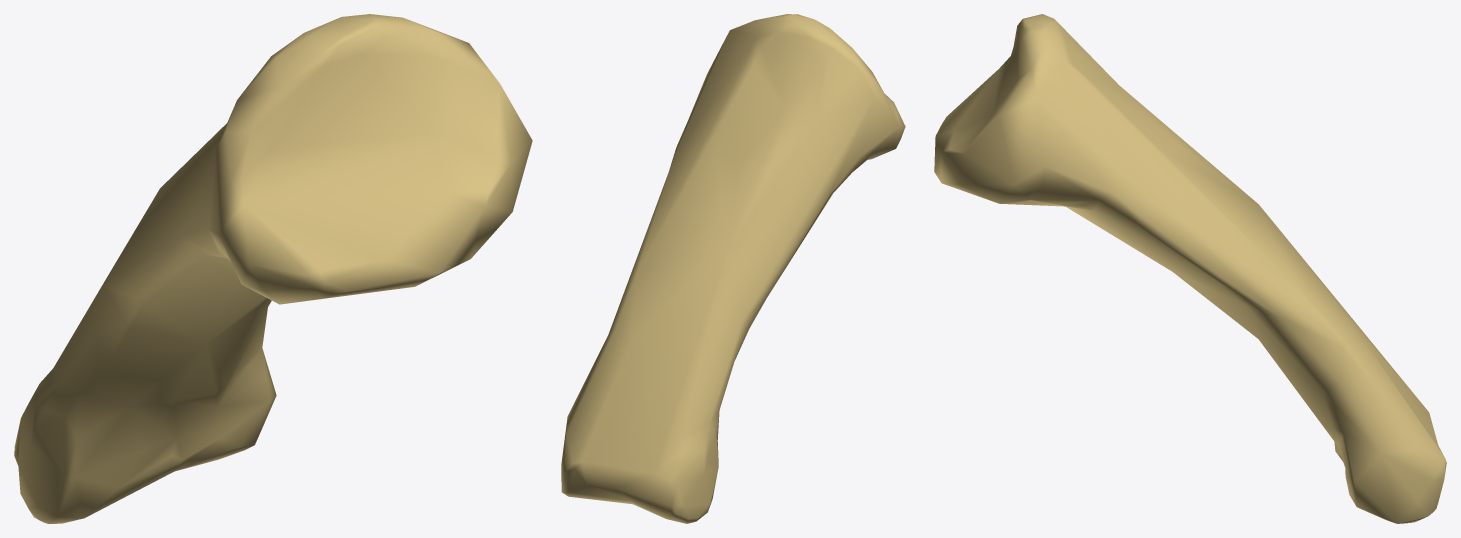
The picture shows the model from 3 angles, left to right: view 1: azimuth 30°, elevation 25°; view 2: azimuth 150°, elevation 25°; view 3: azimuth 270°, elevation 25°; orthographic projection. The views are drawn at different scales.
Visible parts, largest first — view 1: 左侧第四指中节指骨; view 2: 左侧第四指中节指骨; view 3: 左侧第四指中节指骨.
Boxes of the visible parts, <box> form: 左侧第四指中节指骨: <box>14,14,532,523</box>; 左侧第四指中节指骨: <box>561,14,905,523</box>; 左侧第四指中节指骨: <box>934,14,1446,523</box>.
Bounding box in the file's own units: 0.0185 × 0.0369 × 0.0366.
